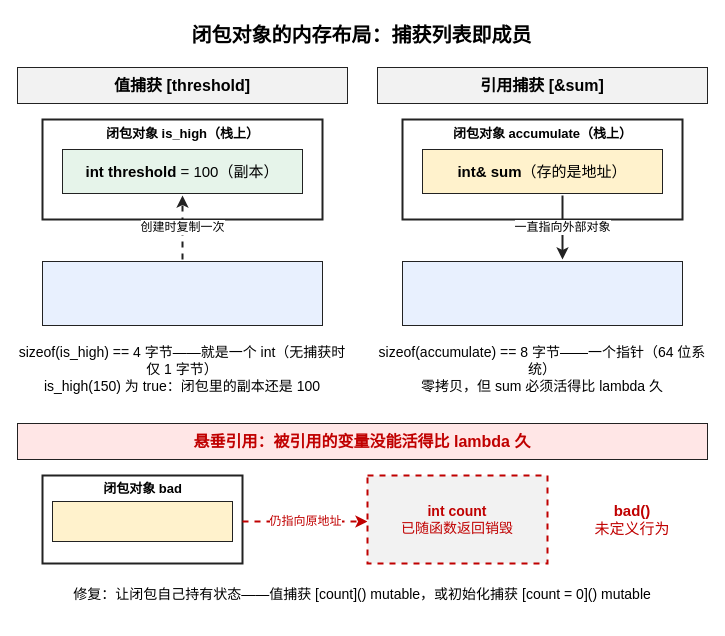
The diagram is 725 pixels wide and 636 high, and some of its shapes have lost their labels. The centre of each missing label's shape, as x and y in pixels:
"int& count （地址还在）" goes at (x=142, y=521).
"外部变量 sum accumulate(10/20/30)：0 → 60" goes at (x=542, y=293).
"外部变量 threshold 之后被改成 200——影响不到闭包里的副本" goes at (x=182, y=293).
